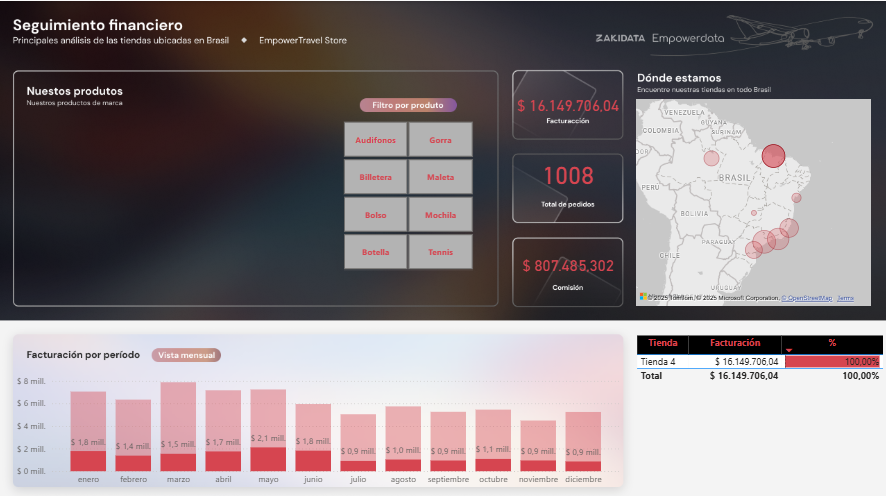

What the dashboard file says about the page in this screenshot:
{"tool":"powerbi","page":{"name":"Página 1","canvas":[1280,720],"ordinal":0},"visuals":[{"type":"card","fields":{"Values":["RegistroVentas.Total_facturado"]},"box":[740.2,118.1,158.4,64.8],"z":0},{"type":"card","fields":{"Values":["CountNonNull(RegistroVentas.ID)"]},"box":[740.2,216,158.4,64.8],"z":1000},{"type":"card","fields":{"Values":["RegistroVentas.Comision"]},"box":[740.2,348.5,158.4,64.8],"z":2000},{"type":"clusteredColumnChart","fields":{"Category":["RegistroVentas.Fecha_ Pedido.Variación.Jerarquía de fechas.Mes"],"Y":["RegistroVentas.Total_facturado"]},"box":[20.2,514.1,878.4,193],"z":3000},{"type":"slicer","fields":{"Values":["Productos.descripción_producto"]},"box":[470.9,167,234.7,226.1],"z":4000},{"type":"tableEx","fields":{"Values":["Tiendas.nombre_Tienda","RegistroVentas.Total_facturado","Divide(RegistroVentas.Total_facturado, ScopedEval(RegistroVentas.Total_facturado, []))"]},"box":[913,476.6,367.2,220.3],"z":5000},{"type":"map","fields":{"Category":["Tiendas.Ciudad"],"Size":["RegistroVentas.Total_facturado"]},"box":[913,136.8,348.5,308.2],"z":6000}]}

Visuals, with their boxes in screenshot pixels (x1, y1, x2, y2), scaled from the page's 1280x720 canvas onto the 886x496 screenshot:
card - RegistroVentas.Total_facturado: bbox(512, 81, 622, 126)
card - CountNonNull(RegistroVentas.ID): bbox(512, 149, 622, 193)
card - RegistroVentas.Comision: bbox(512, 240, 622, 285)
clusteredColumnChart - RegistroVentas.Fecha_ Pedido.Variación.Jerarquía de fechas.Mes x RegistroVentas.Total_facturado: bbox(14, 354, 622, 487)
slicer - Productos.descripción_producto: bbox(326, 115, 488, 271)
tableEx - Tiendas.nombre_Tienda x RegistroVentas.Total_facturado: bbox(632, 328, 885, 480)
map - Tiendas.Ciudad x RegistroVentas.Total_facturado: bbox(632, 94, 873, 307)
